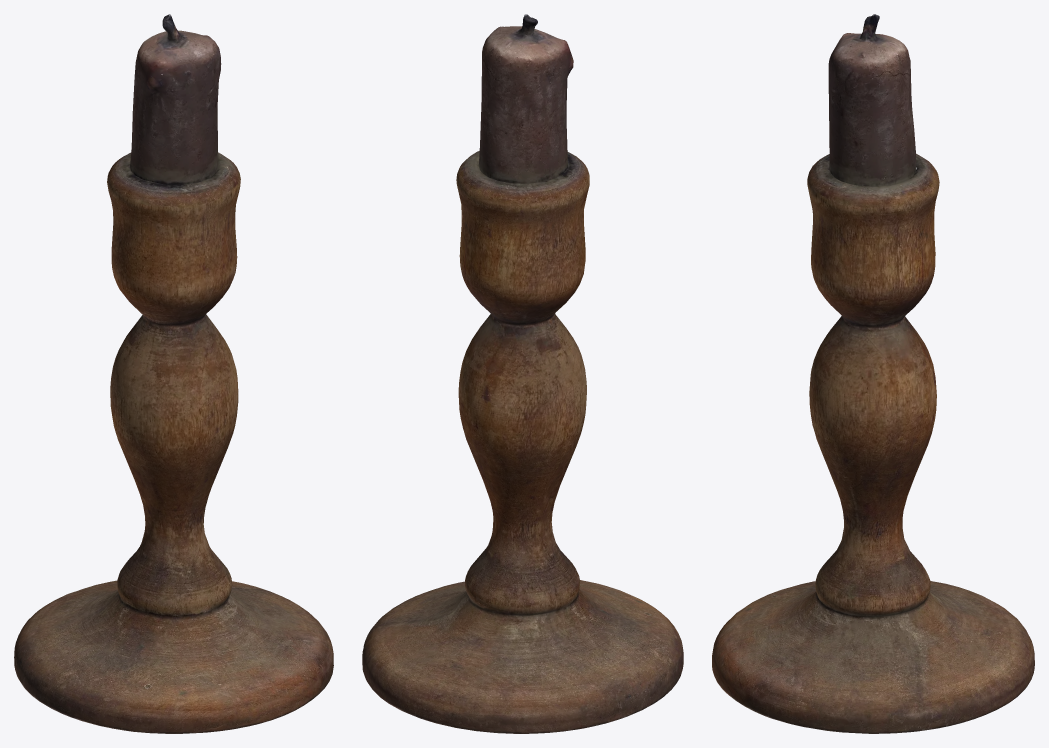
Rendered from wooden_candlestick.glb.
3 renders of one model, left to right at view 1: azimuth 30°, elevation 25°; view 2: azimuth 150°, elevation 25°; view 3: azimuth 270°, elevation 25°, orthographic.
Visible parts, largest first — view 1: wooden_candlestick; view 2: wooden_candlestick; view 3: wooden_candlestick.
Boxes of the visible parts, <box> form: wooden_candlestick: <box>14,14,333,733</box>; wooden_candlestick: <box>362,14,683,733</box>; wooden_candlestick: <box>712,14,1034,733</box>.
Size of the model in its own units: 0.0972 by 0.2196 by 0.0986.
1 material, 1 textured.
